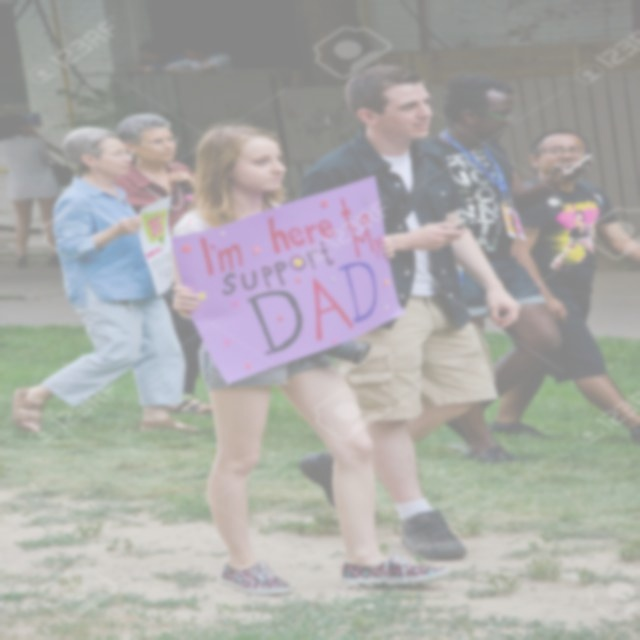pessoa: (160, 116, 460, 600), (272, 59, 528, 570), (2, 120, 210, 444), (421, 73, 572, 469), (484, 127, 640, 447), (113, 114, 215, 414), (0, 105, 72, 267), (162, 40, 238, 73), (130, 38, 197, 74)
